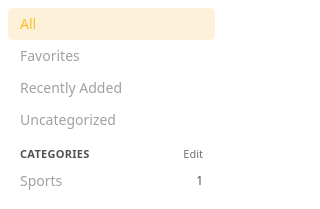
it: CategorySidebar edit mode › toggling the eye flips the icon immediately, before the write resolves
Click the button "Edit".
click(193, 154)  # box [175, 144, 211, 164]
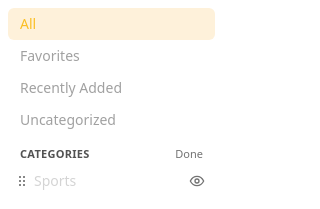
Click the button named "Hide Sports".
click(197, 180)  # box [185, 168, 209, 192]
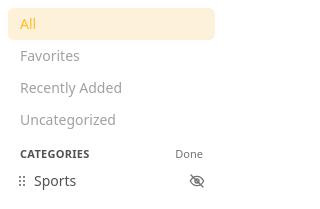
Result: the button named "Show Sports" is shown at [185, 168, 209, 192]
